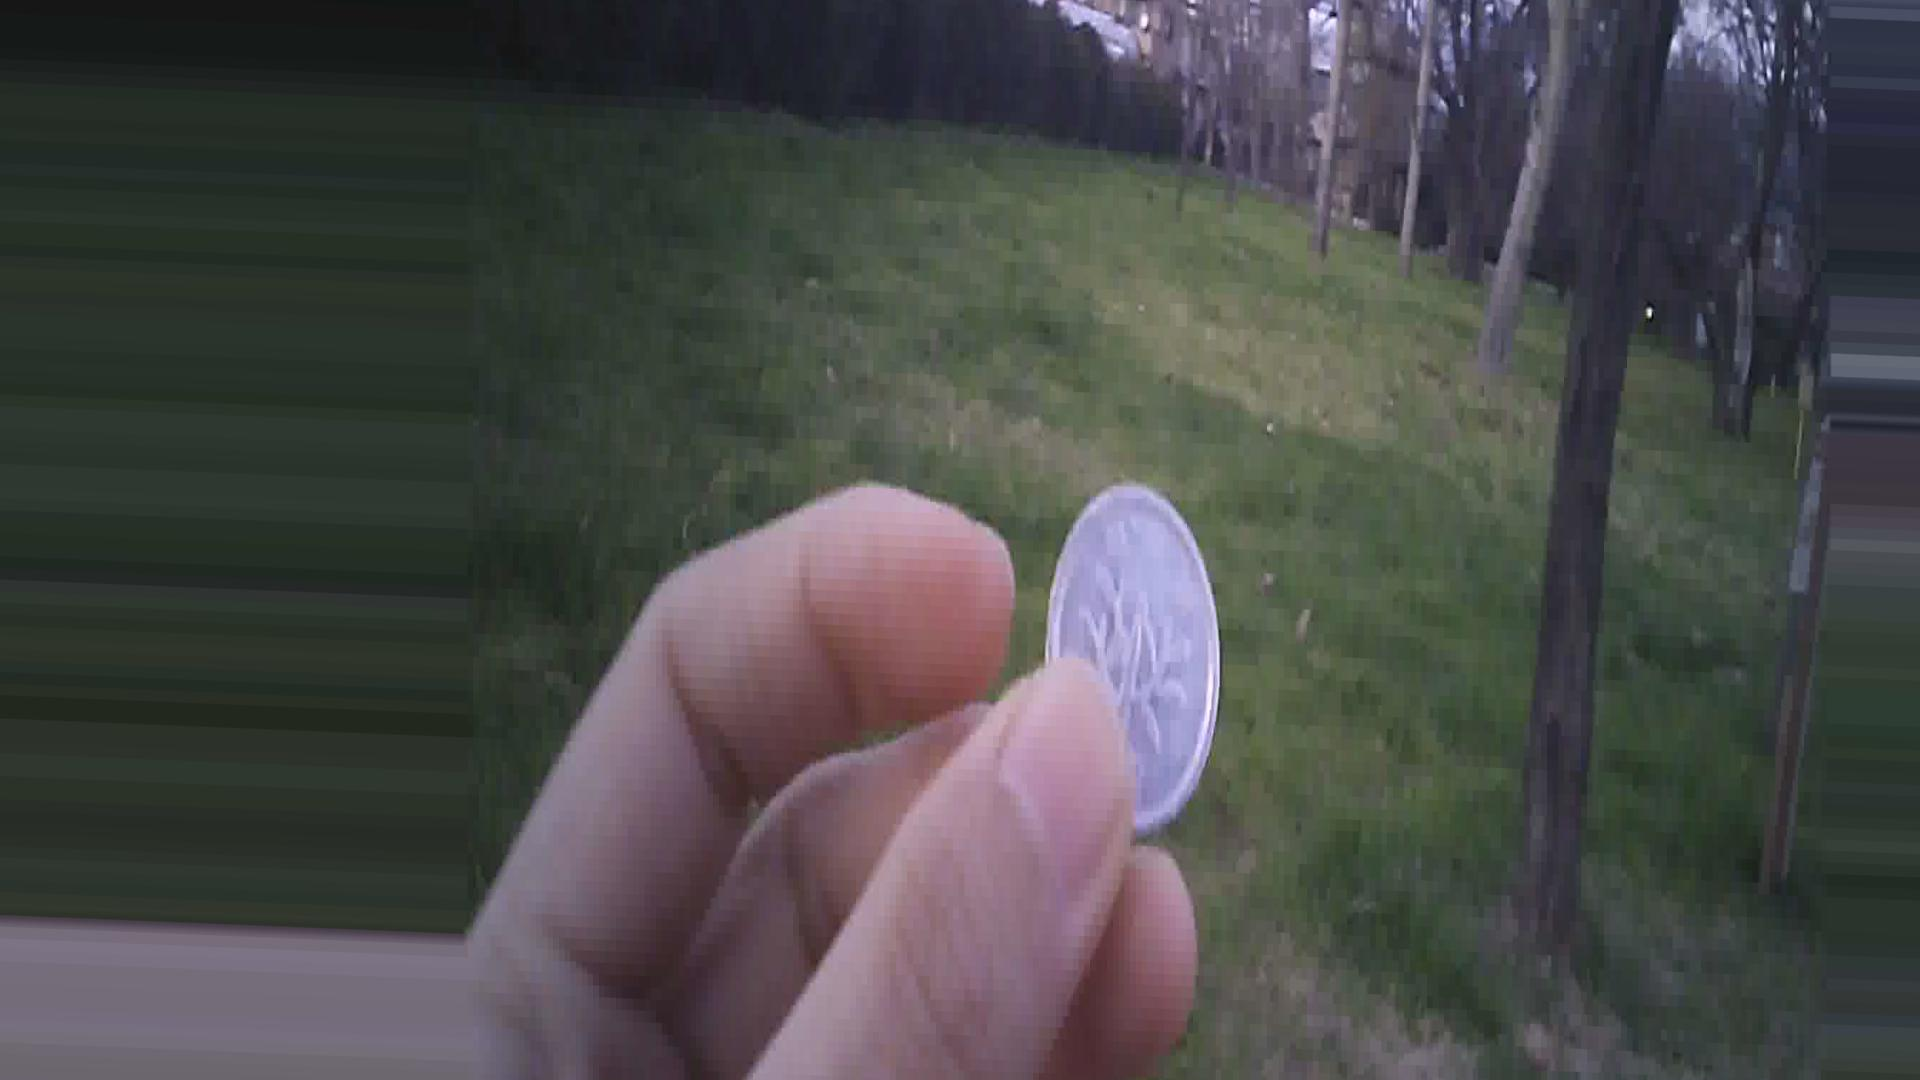1 Yen: (1038, 481, 1224, 843)
